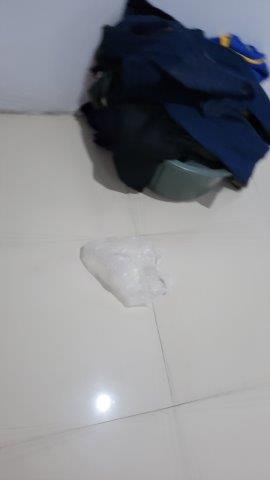plastik: (75, 234, 170, 310)
